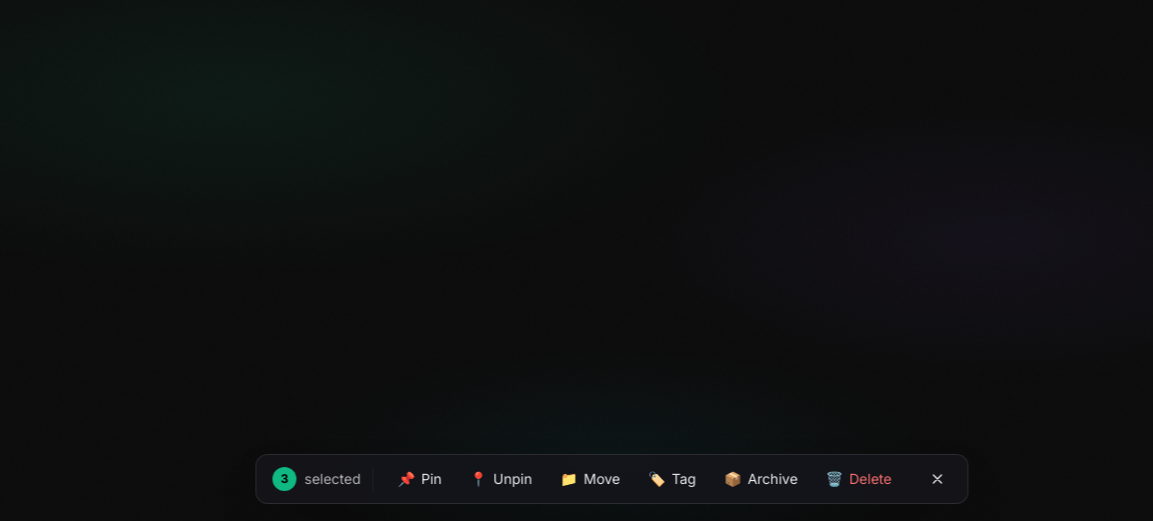
Test: BulkActionBar › move to folder menu › should close menu after selection
Click the button titled "Move to folder" at (590, 479), box [548,463,632,495]
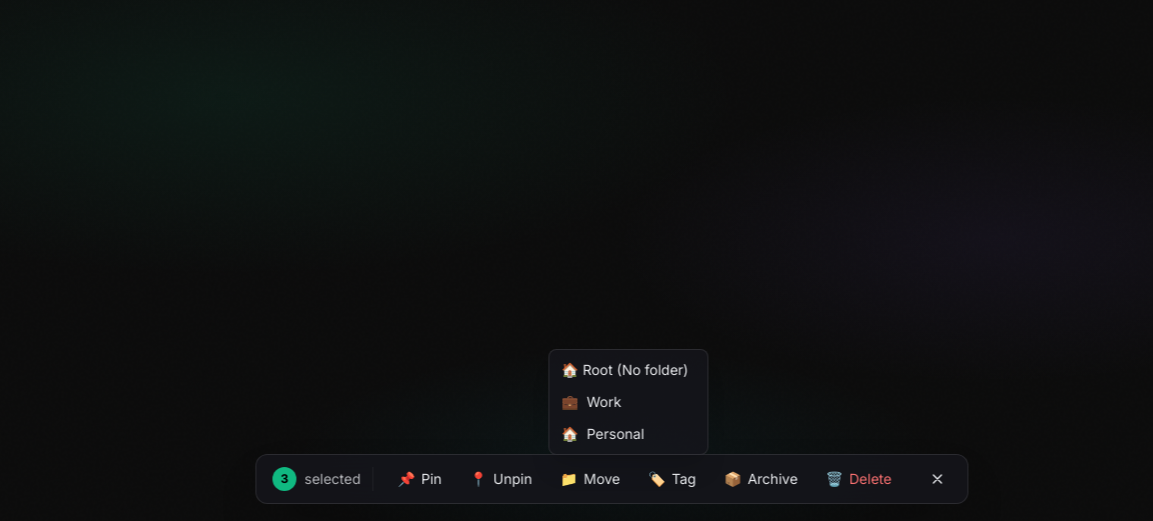
Click the button "💼 Work" at (628, 402), box [549,386,707,418]
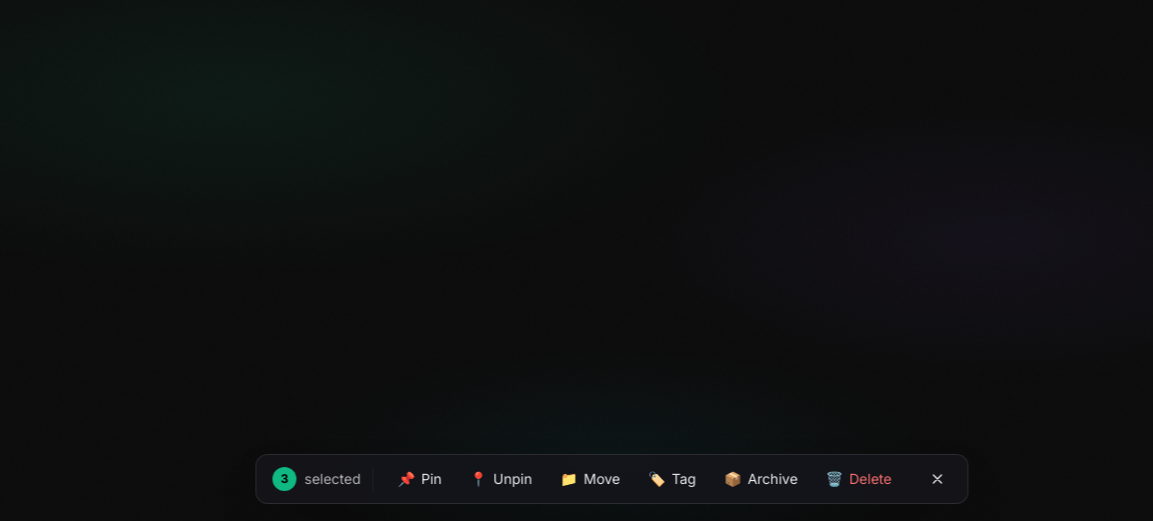
Now the button "Root (No folder)" is gone
